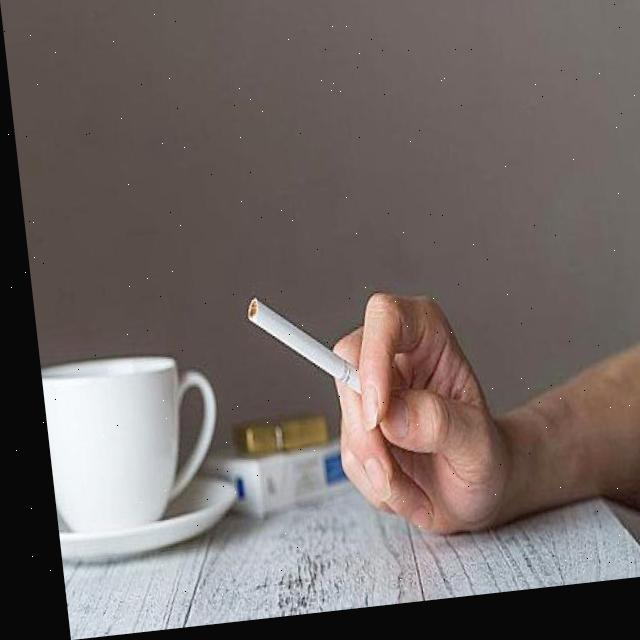cigarette: (241, 296, 350, 410)
